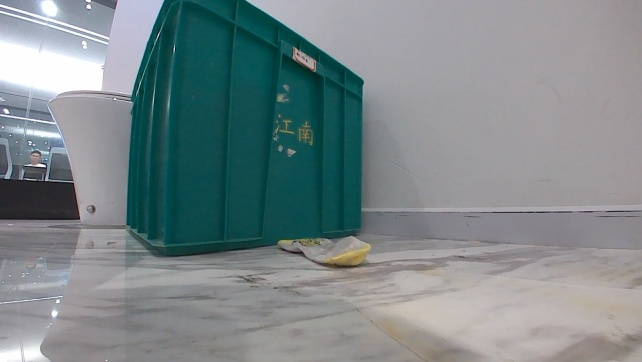socks: (278, 228, 373, 272)
toilet: (44, 87, 134, 229)
